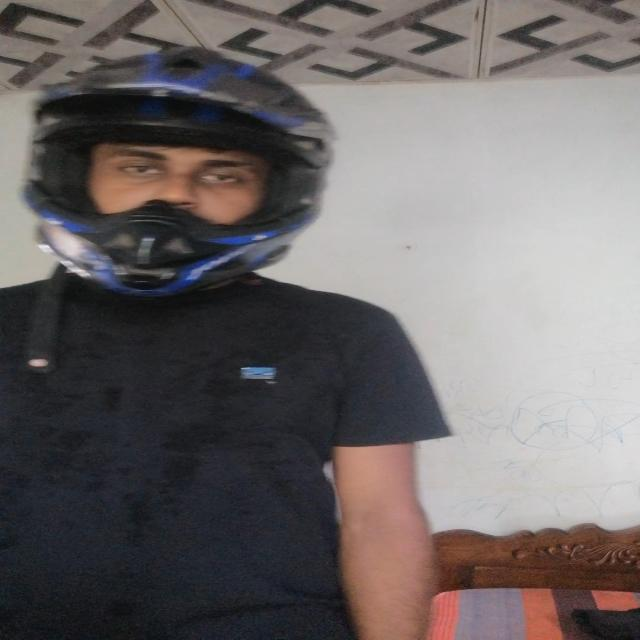Helmet_Wearer: (40, 58, 329, 316)
Person: (16, 53, 448, 640)
